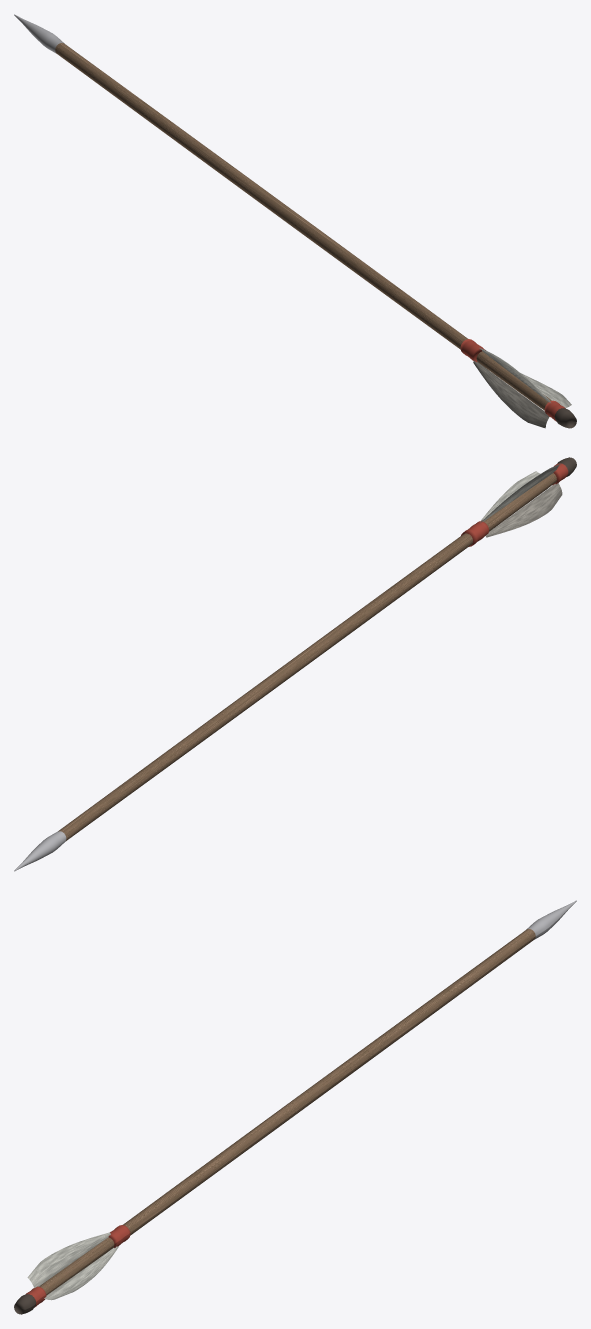
File: arrow.glb
3 renders of one model, top to bottom at view 1: azimuth 30°, elevation 25°; view 2: azimuth 150°, elevation 25°; view 3: azimuth 330°, elevation 25°, orthographic.
Visible parts, largest first — view 1: arrow; view 2: arrow; view 3: arrow.
Part boxes in pixels (x1,y1,x2,y2): arrow: (14,14,576,428); arrow: (14,457,576,871); arrow: (14,900,576,1314).
Size of the model in its own units: 0.0336 by 0.0371 by 0.9.
Materials: 7 (4 with a texture image).
